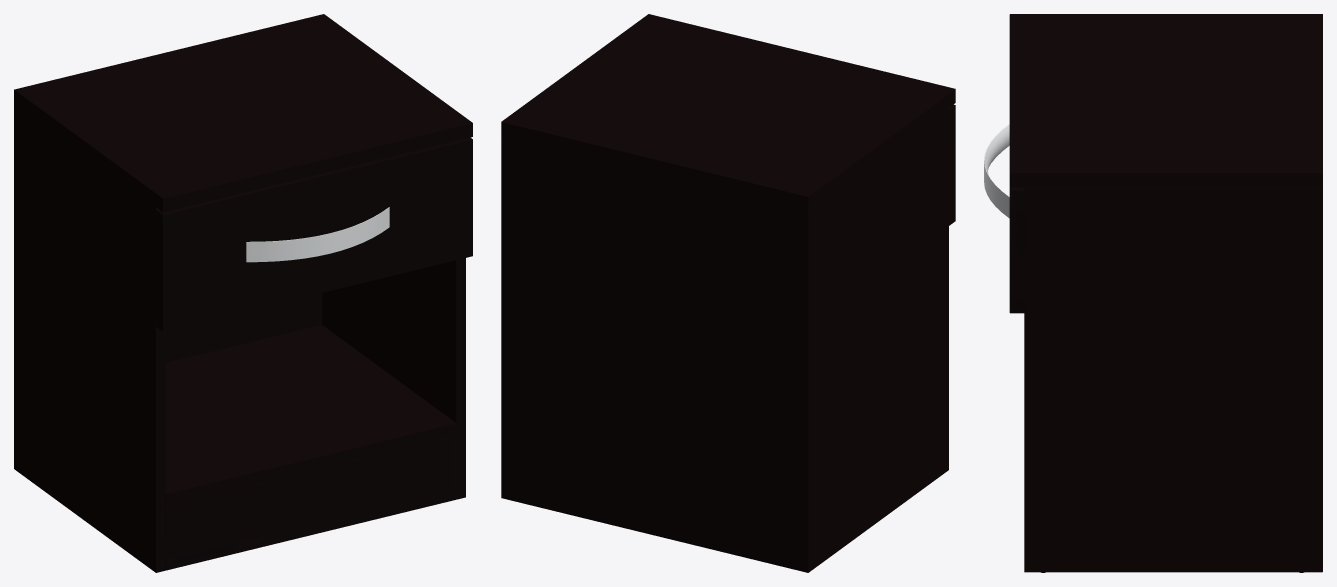
The model's file is abo-B079TXCC1J.glb.
3 renders of one model, left to right at view 1: azimuth 30°, elevation 25°; view 2: azimuth 150°, elevation 25°; view 3: azimuth 270°, elevation 25°, orthographic. The views are drawn at different scales.
Bounding box in the file's own units: 0.4 × 0.47 × 0.36.
1 material, 1 textured.
